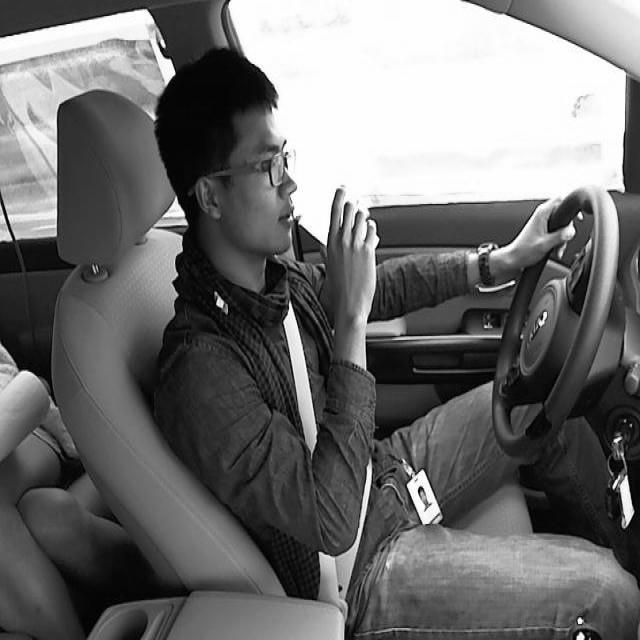Drinking: (302, 175, 372, 256)
